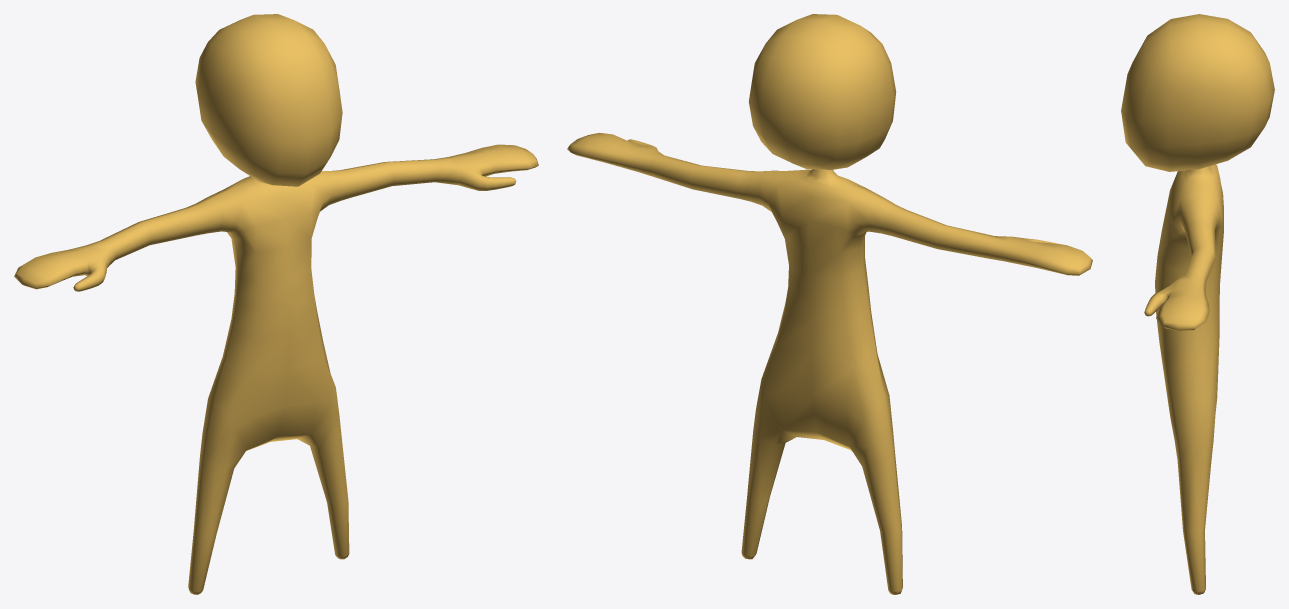
Rendered from Human_Model.fbx.
3 views of the same model, side by side, from view 1: azimuth 30°, elevation 25°; view 2: azimuth 150°, elevation 25°; view 3: azimuth 270°, elevation 25° (orthographic). The views are drawn at different scales.
Parts seen in each view (by area): view 1: Human_Body.001; view 2: Human_Body.001; view 3: Human_Body.001.
Boxes of the visible parts, <box> form: Human_Body.001: <box>14,14,538,594</box>; Human_Body.001: <box>567,14,1092,594</box>; Human_Body.001: <box>1121,14,1274,594</box>.
Size of the model in its own units: 163 by 168 by 43.39.
